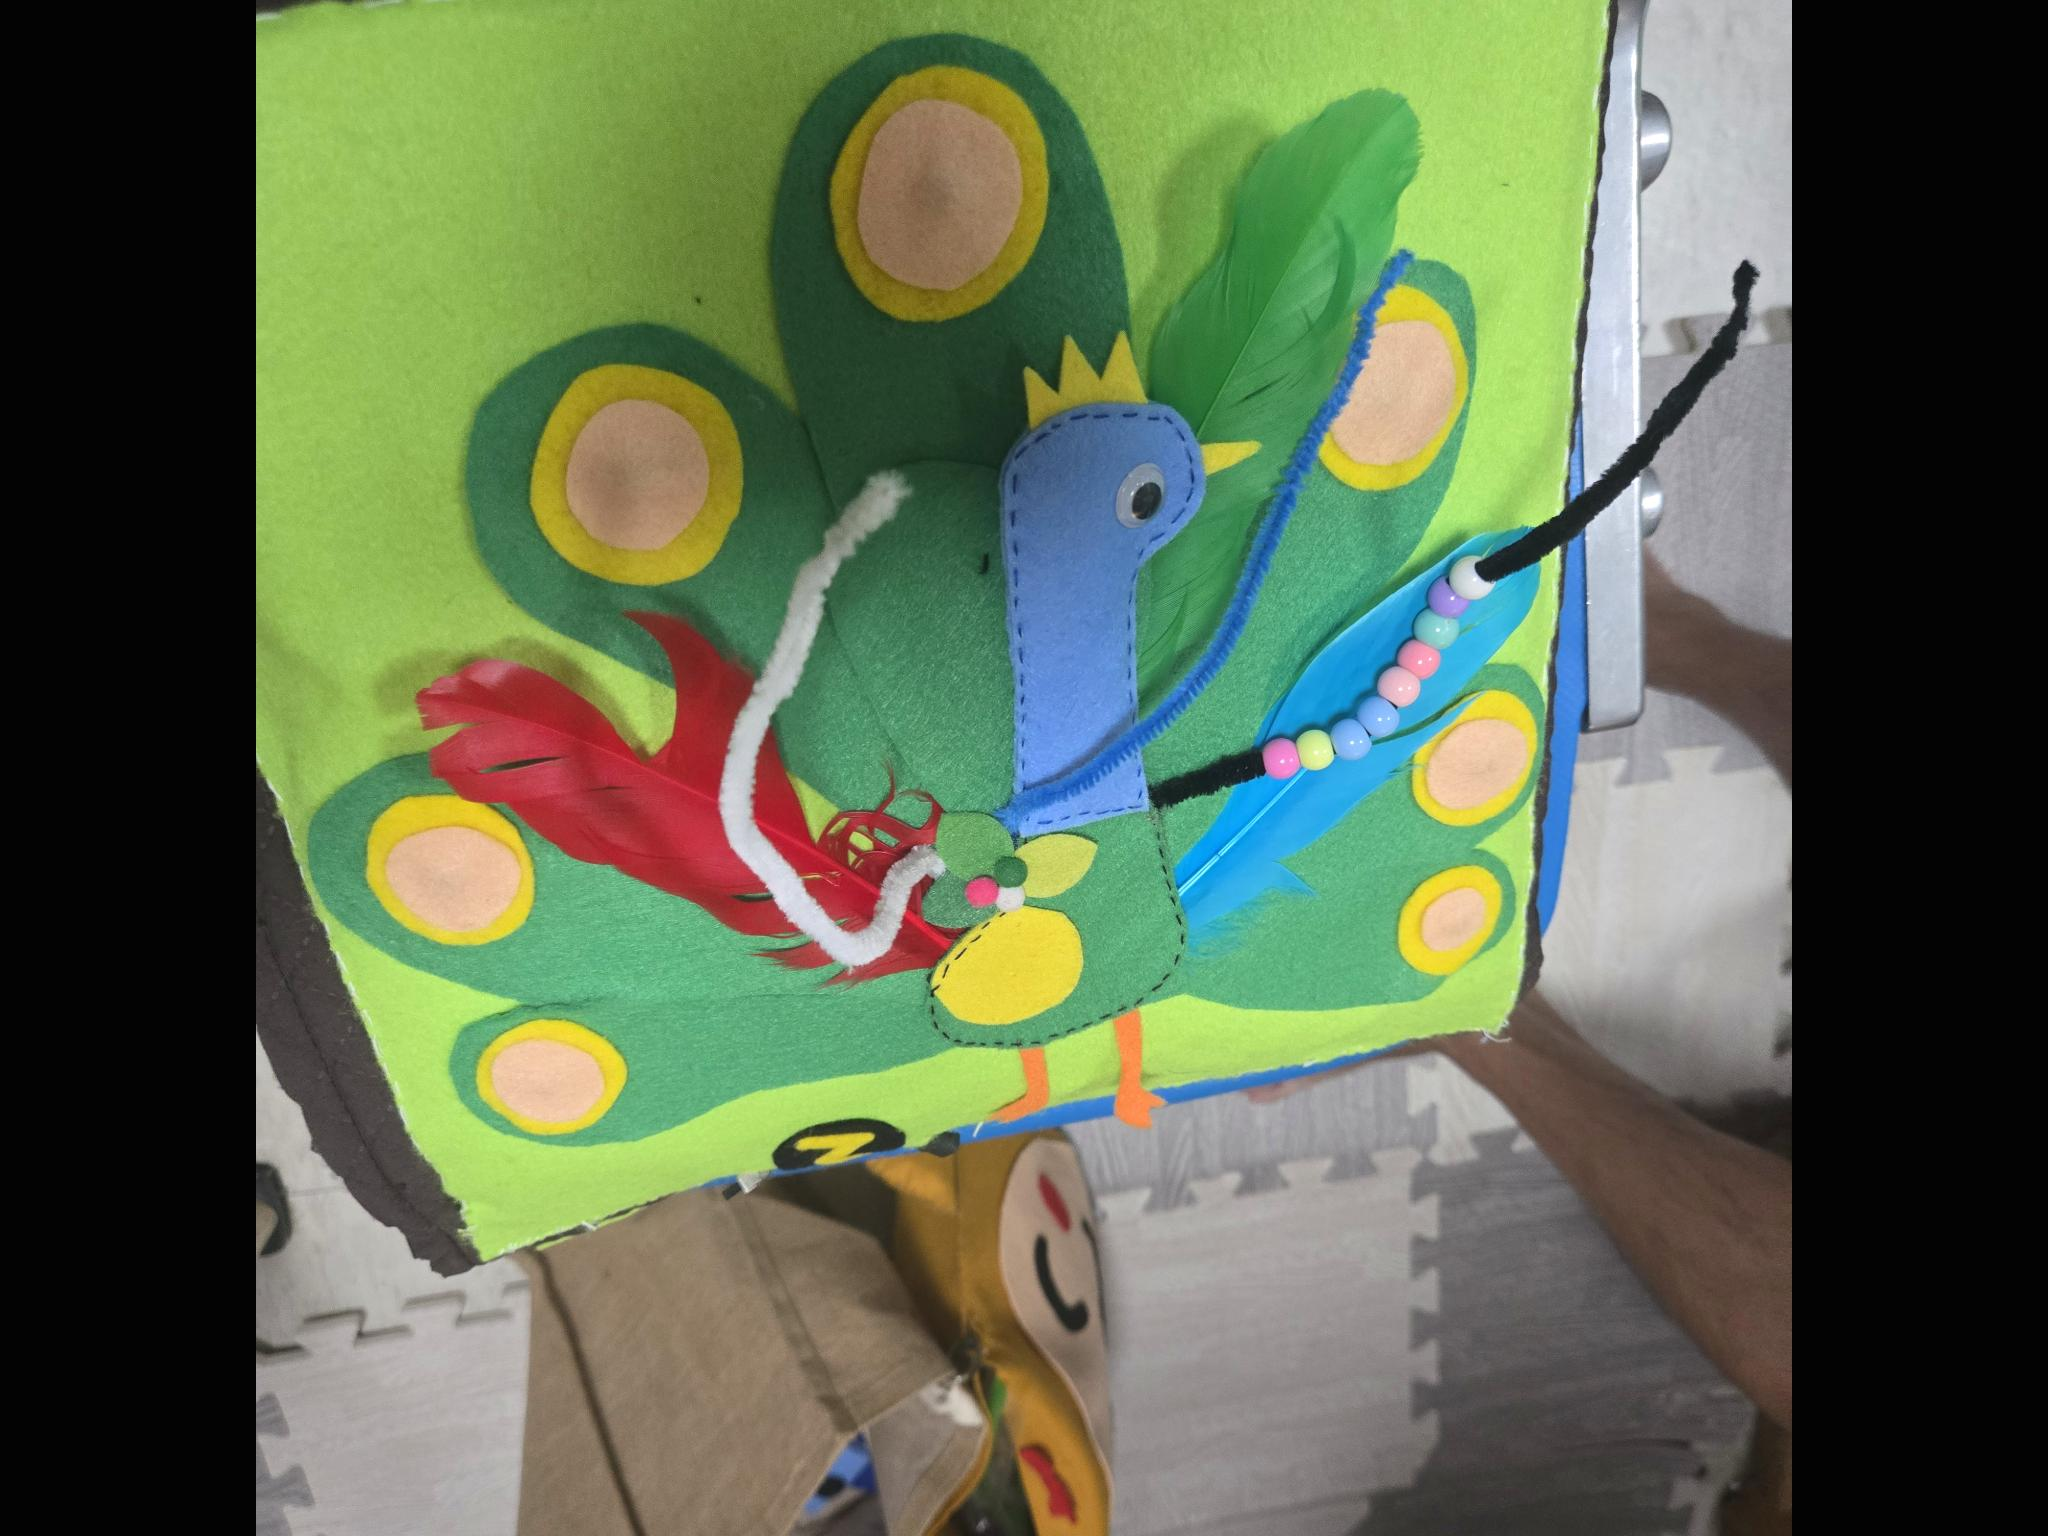bead: (1451, 547, 1503, 603), (1324, 721, 1374, 778), (1353, 694, 1405, 747), (1293, 724, 1338, 778), (1256, 731, 1298, 784), (1421, 587, 1466, 624), (1411, 613, 1461, 645), (1384, 673, 1421, 712), (1400, 645, 1447, 674)
